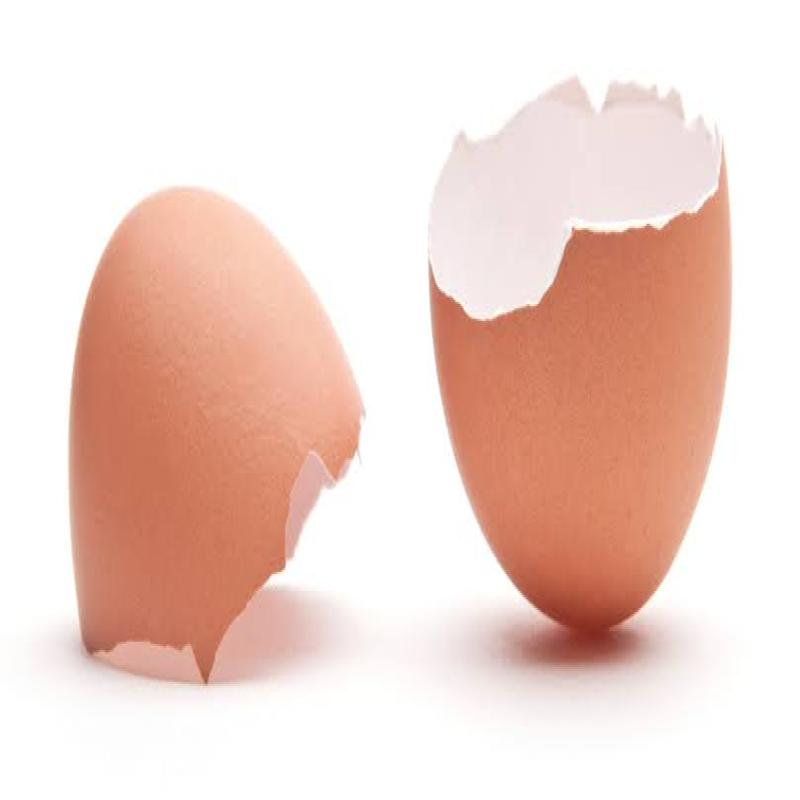egg shell: (425, 72, 737, 637), (66, 184, 367, 688)
